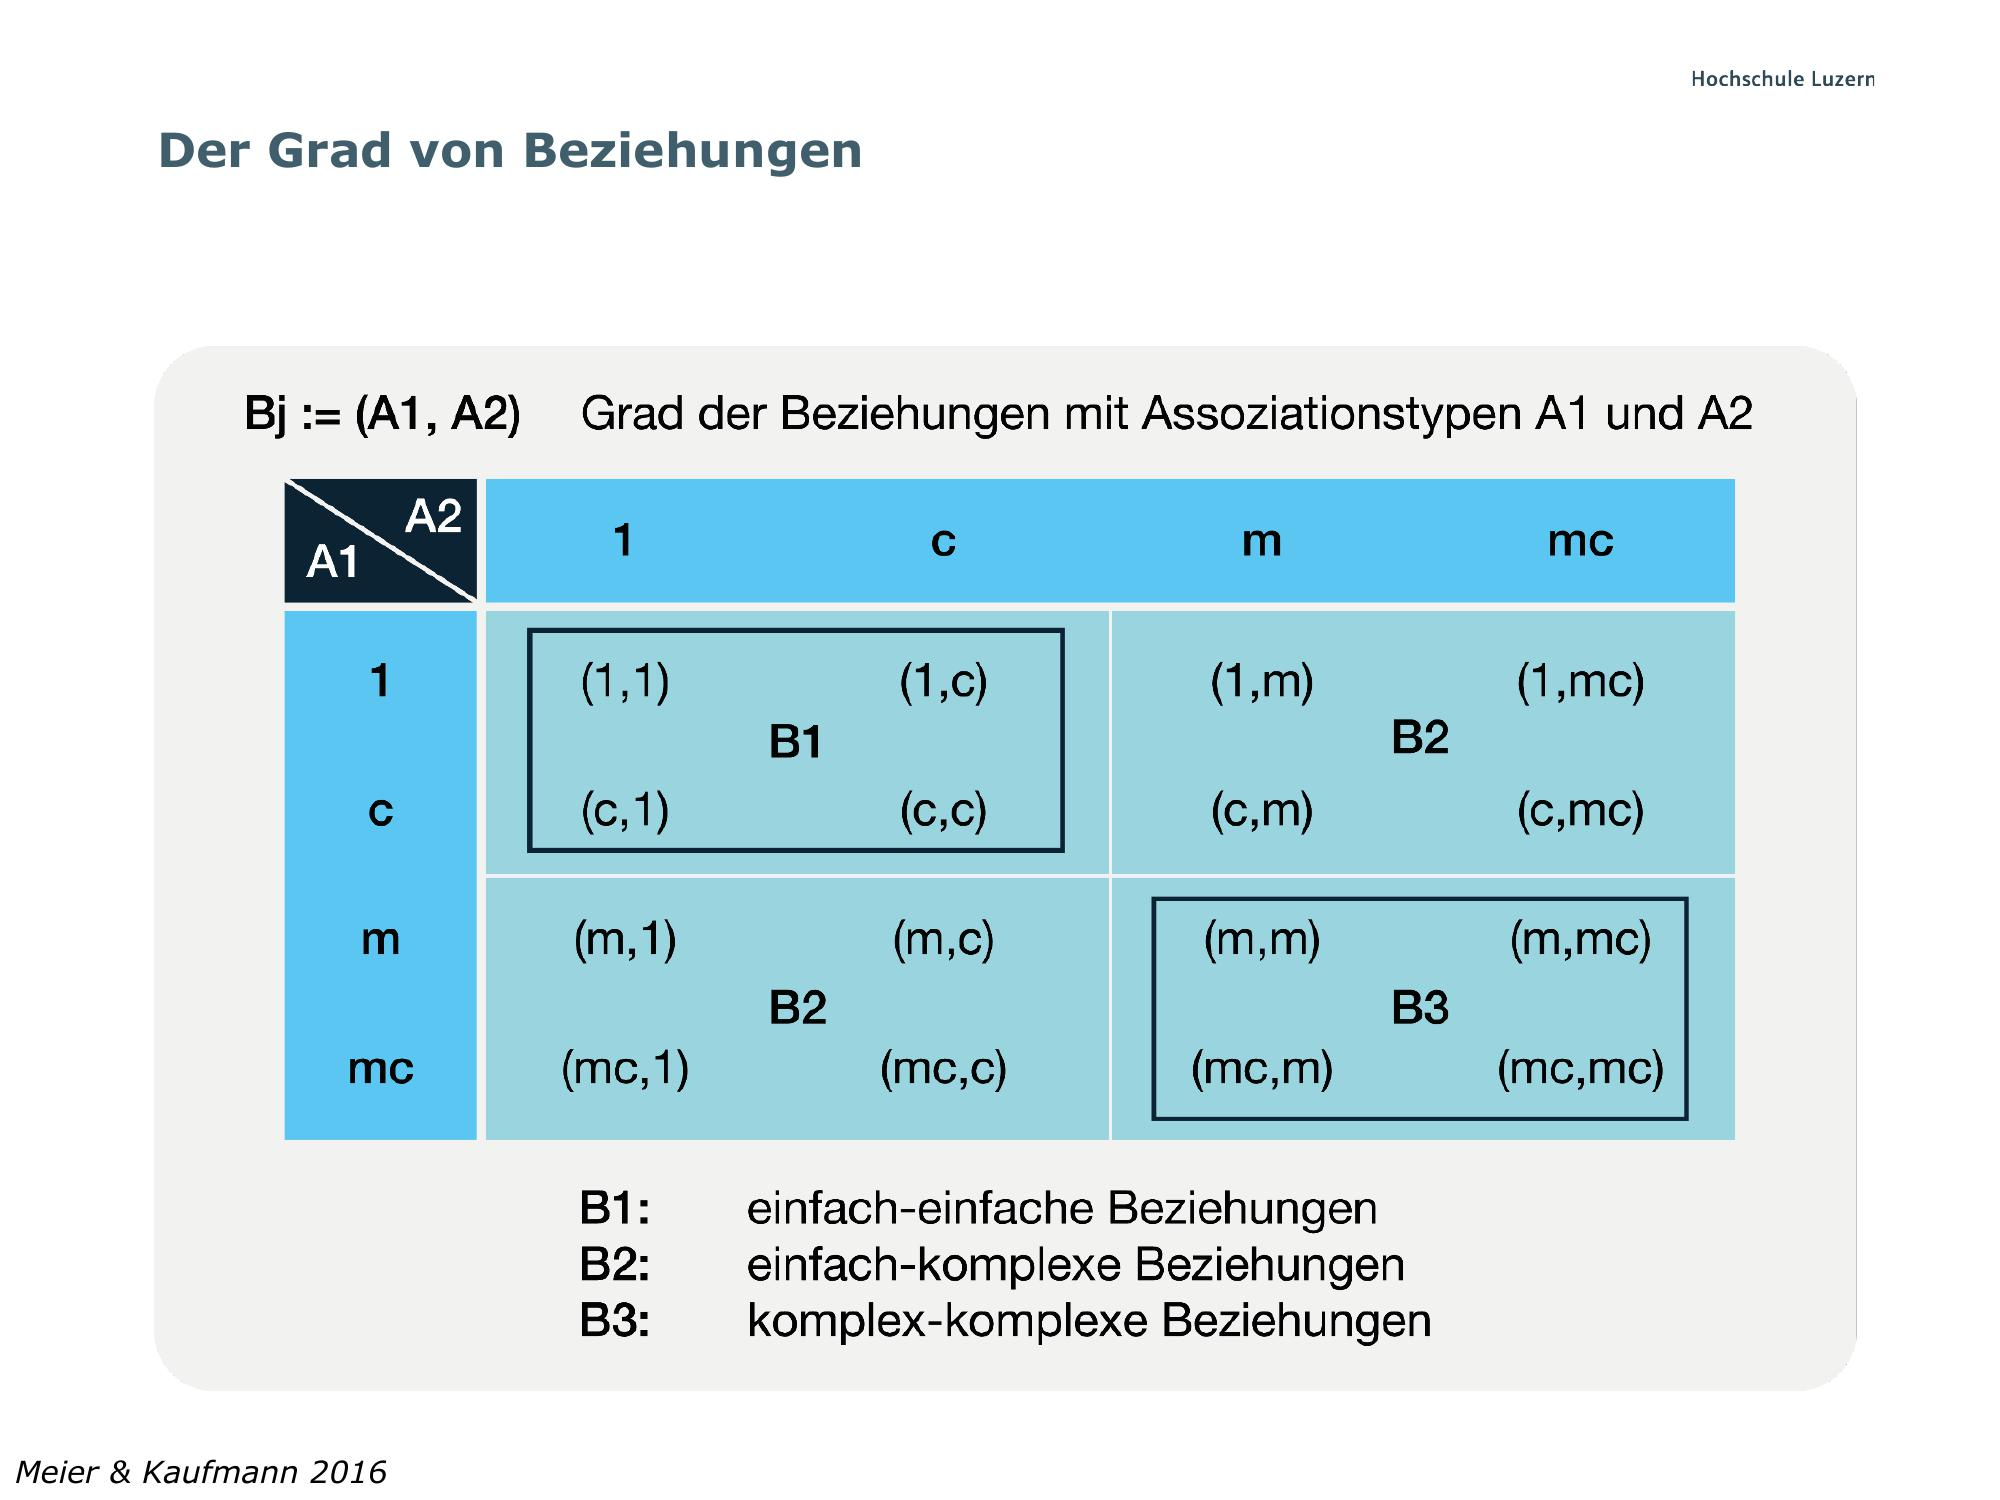Title: (139, 106, 876, 184)
